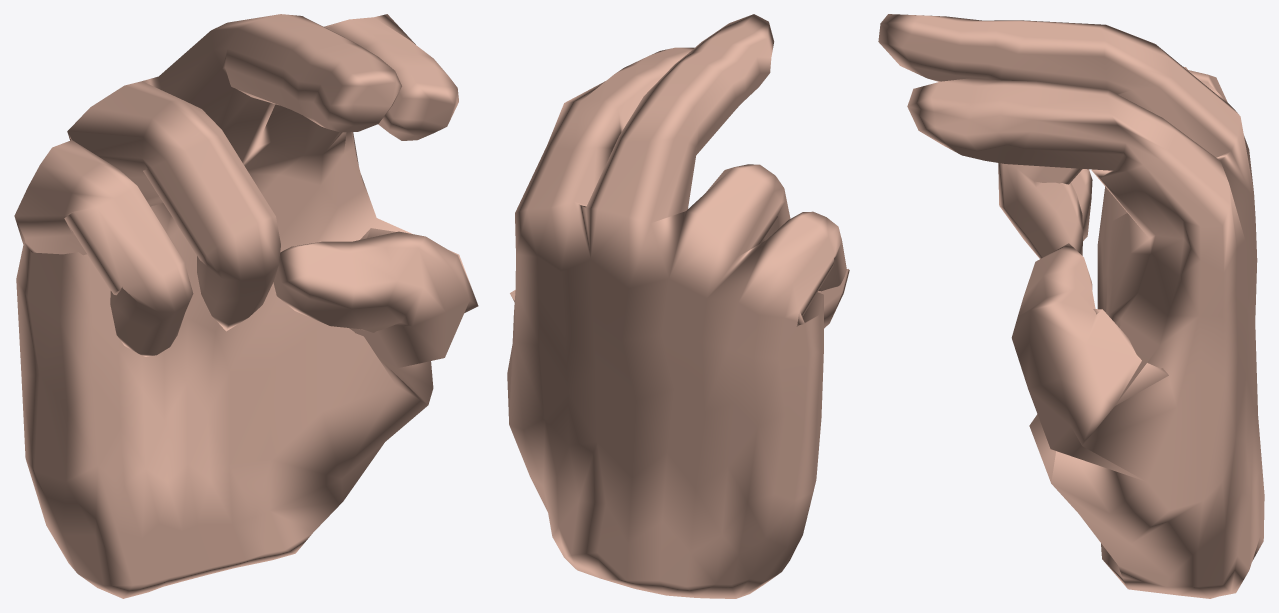
The model's file is CURVADO_U.obj.
The picture shows the model from 3 angles, left to right: view 1: azimuth 30°, elevation 25°; view 2: azimuth 150°, elevation 25°; view 3: azimuth 270°, elevation 25°; orthographic projection. The views are drawn at different scales.
Visible parts, largest first — view 1: mao_dir:mao_dir; view 2: mao_dir:mao_dir; view 3: mao_dir:mao_dir.
Part boxes in pixels (bbox=[...]): mao_dir:mao_dir: bbox=[14, 14, 478, 598]; mao_dir:mao_dir: bbox=[507, 14, 849, 598]; mao_dir:mao_dir: bbox=[878, 14, 1264, 598].
Bounding box in the file's own units: 135 × 179 × 113.
